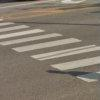Crosswalk: (3, 14, 96, 84)
